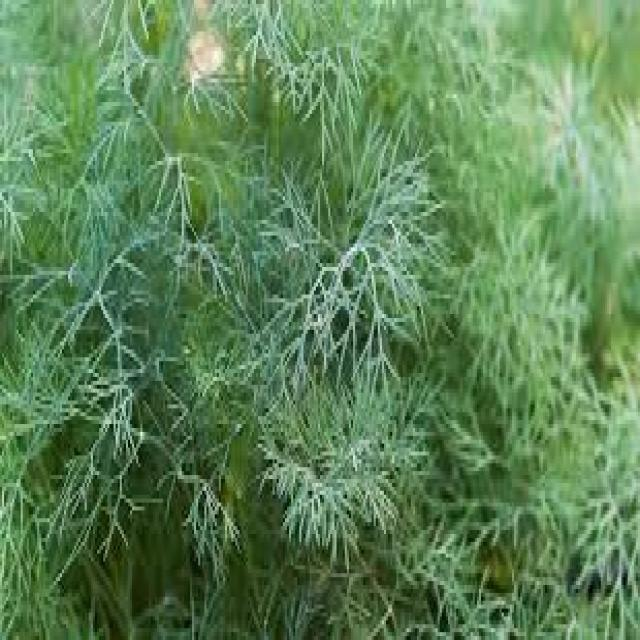Dill: (12, 12, 638, 636)
